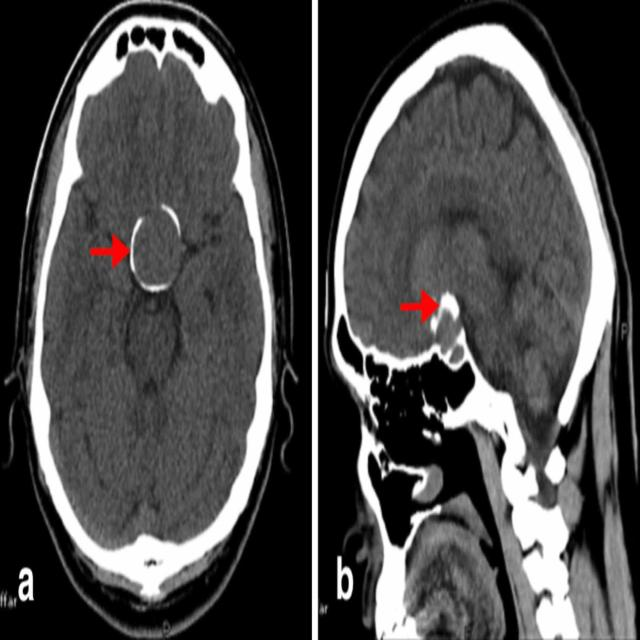Tumor: (131, 208, 185, 288), (434, 286, 462, 331)
